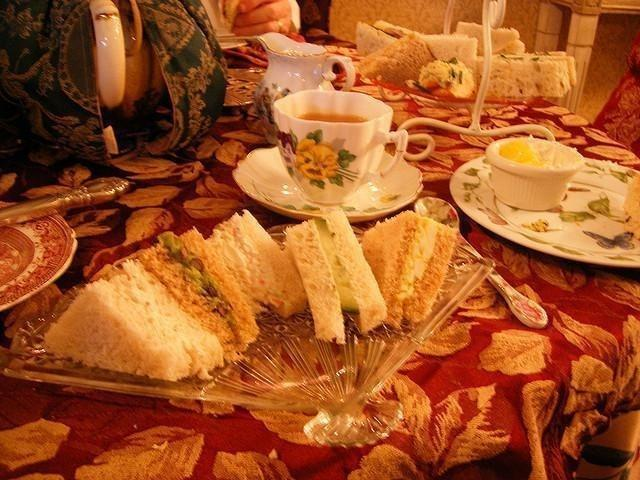cup-handle: (272, 89, 409, 205)
